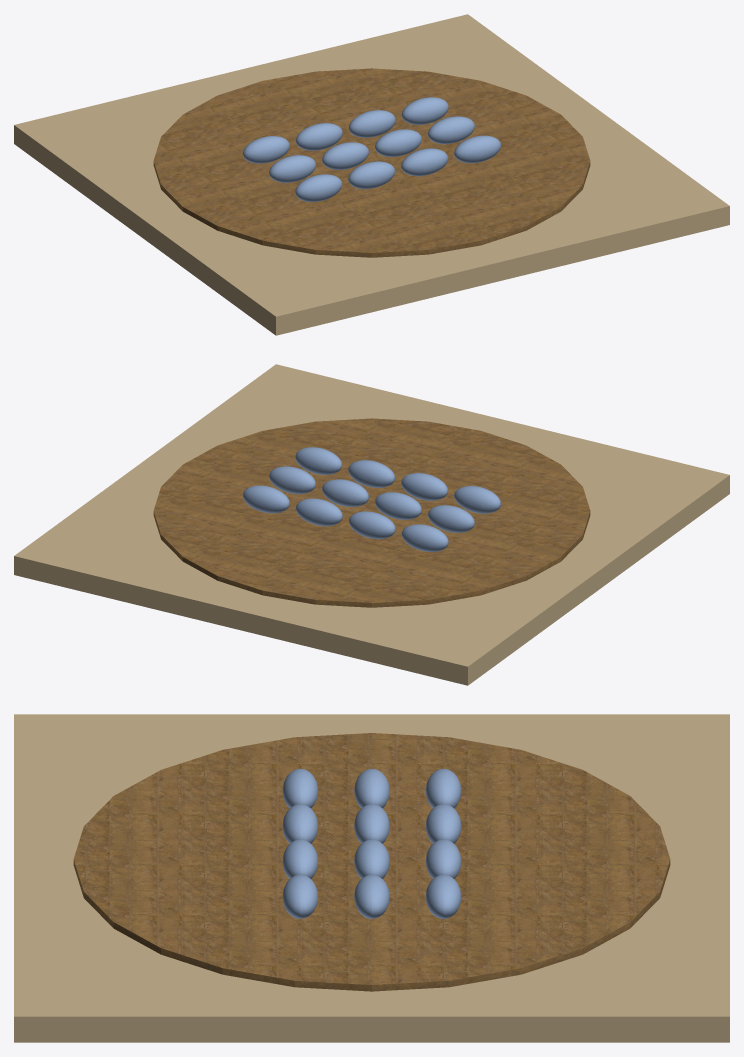
File: eira.glb
3 views of the same model, one above another, from view 1: azimuth 30°, elevation 25°; view 2: azimuth 150°, elevation 25°; view 3: azimuth 270°, elevation 25° (orthographic). The views are drawn at different scales.
Parts seen in each view (by area): view 1: Base ilustrativa, Piso de debulha, Feixe ilustrativo.001, Feixe ilustrativo.008, Feixe ilustrativo.009, Feixe ilustrativo.010, Feixe ilustrativo.004, Feixe ilustrativo.007, Feixe ilustrativo.011, Feixe ilustrativo.002, Feixe ilustrativo.003, Feixe ilustrativo.005 (+2 smaller); view 2: Base ilustrativa, Piso de debulha, Feixe ilustrativo, Feixe ilustrativo.001, Feixe ilustrativo.002, Feixe ilustrativo.009, Feixe ilustrativo.003, Feixe ilustrativo.004, Feixe ilustrativo.007, Feixe ilustrativo.005, Feixe ilustrativo.010, Feixe ilustrativo.011 (+2 smaller); view 3: Base ilustrativa, Piso de debulha, Feixe ilustrativo.003, Feixe ilustrativo.011, Feixe ilustrativo.007, Feixe ilustrativo.006, Feixe ilustrativo.001, Feixe ilustrativo.009, Feixe ilustrativo.002, Feixe ilustrativo.010, Feixe ilustrativo, Feixe ilustrativo.004 (+2 smaller).
Boxes of the visible parts, box(x1,y1,x2,y2) form: Base ilustrativa: box(14, 14, 729, 335); Piso de debulha: box(153, 68, 590, 257); Feixe ilustrativo.001: box(295, 123, 342, 150); Feixe ilustrativo.008: box(295, 174, 342, 201); Feixe ilustrativo.009: box(348, 161, 395, 189); Feixe ilustrativo.010: box(401, 148, 448, 176); Feixe ilustrativo.004: box(269, 155, 315, 182); Feixe ilustrativo.007: box(428, 116, 474, 144); Feixe ilustrativo.011: box(454, 135, 501, 163); Feixe ilustrativo.002: box(348, 110, 395, 137); Feixe ilustrativo.003: box(401, 97, 448, 124); Feixe ilustrativo.005: box(322, 142, 368, 169); Base ilustrativa: box(14, 364, 729, 685); Piso de debulha: box(153, 418, 590, 607); Feixe ilustrativo: box(401, 524, 448, 551); Feixe ilustrativo.001: box(348, 511, 395, 539); Feixe ilustrativo.002: box(295, 498, 342, 526); Feixe ilustrativo.009: box(401, 473, 448, 500); Feixe ilustrativo.003: box(242, 485, 289, 513); Feixe ilustrativo.004: box(428, 505, 474, 532); Feixe ilustrativo.007: box(269, 466, 315, 494); Feixe ilustrativo.005: box(375, 492, 421, 519); Feixe ilustrativo.010: box(348, 460, 395, 487); Feixe ilustrativo.011: box(295, 447, 342, 474); Base ilustrativa: box(14, 714, 729, 1042); Piso de debulha: box(73, 733, 670, 991); Feixe ilustrativo.003: box(425, 874, 461, 918); Feixe ilustrativo.011: box(282, 874, 318, 918); Feixe ilustrativo.007: box(354, 874, 389, 918); Feixe ilustrativo.006: box(354, 839, 389, 878); Feixe ilustrativo.001: box(425, 804, 461, 843); Feixe ilustrativo.009: box(282, 804, 318, 843); Feixe ilustrativo.002: box(425, 839, 461, 878); Feixe ilustrativo.010: box(282, 839, 318, 878); Feixe ilustrativo: box(425, 768, 461, 808); Feixe ilustrativo.004: box(354, 768, 389, 808).
Bounding box in the file's own units: 6 × 0.59 × 6.
Materials: 3 (2 with a texture image).
